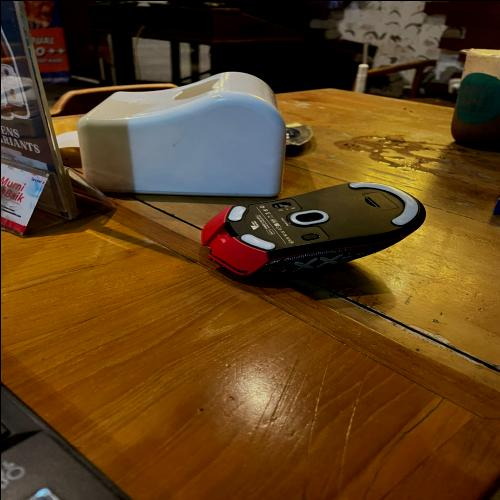mouse: (185, 173, 453, 296)
